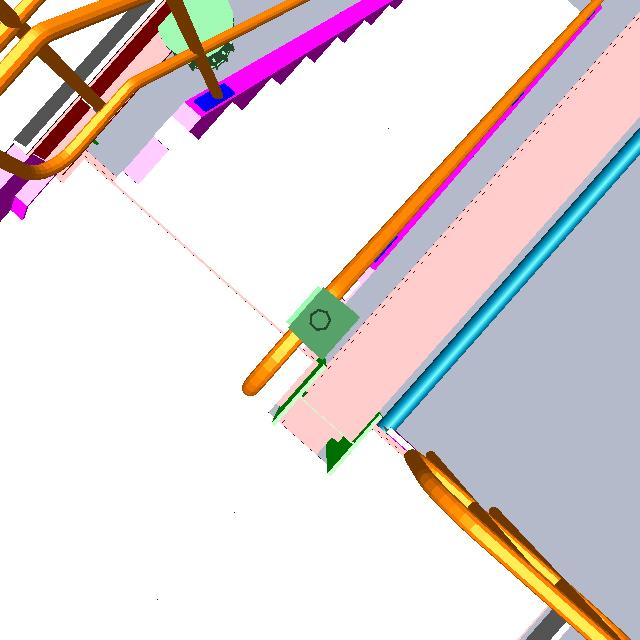Poste: (307, 306, 336, 336)
